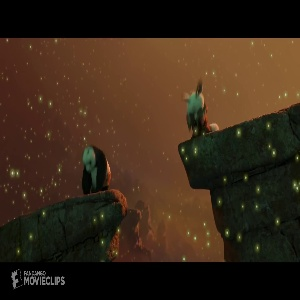po: (77, 144, 111, 192)
shifu: (182, 76, 220, 136)
